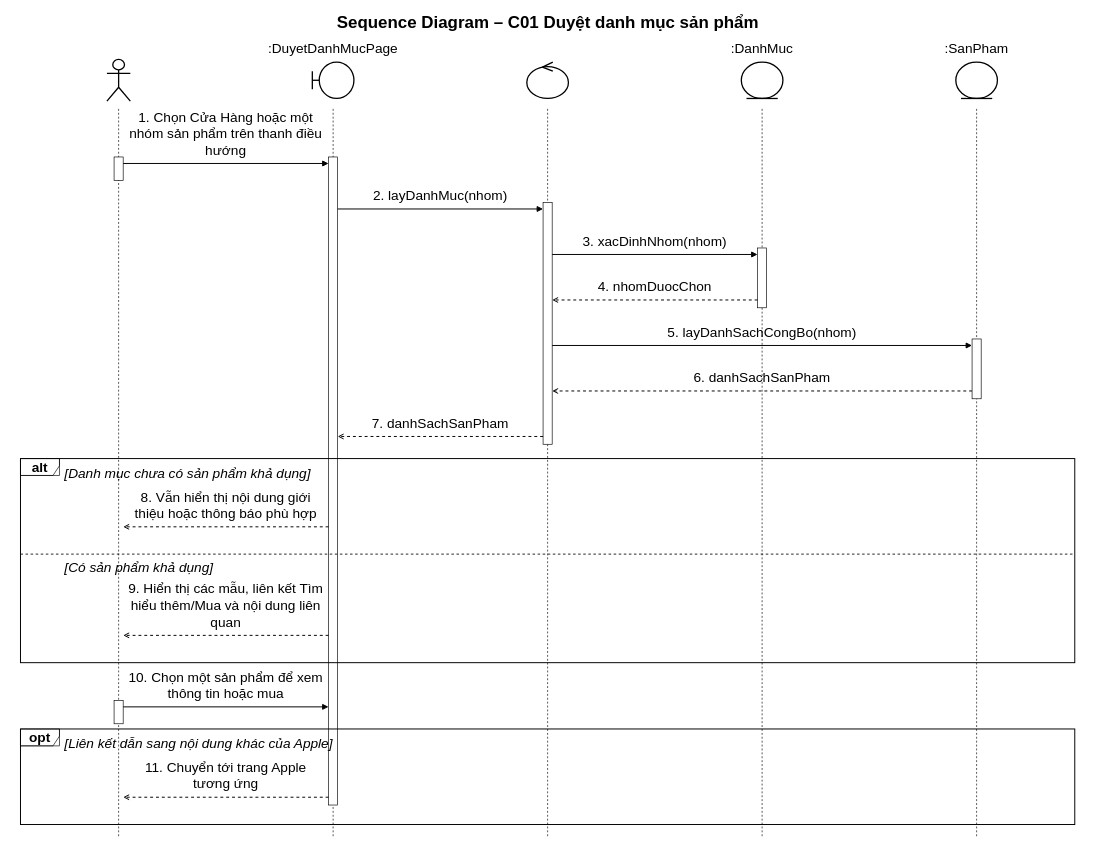
Image size: 1095x850. Some labels were removed from this diagram. Here are the shapes that lost their labels. From the top down, the centre of each, then its label:
[118,79]: :Khách hàng
[547,80]: :DuyetDanhMucController
